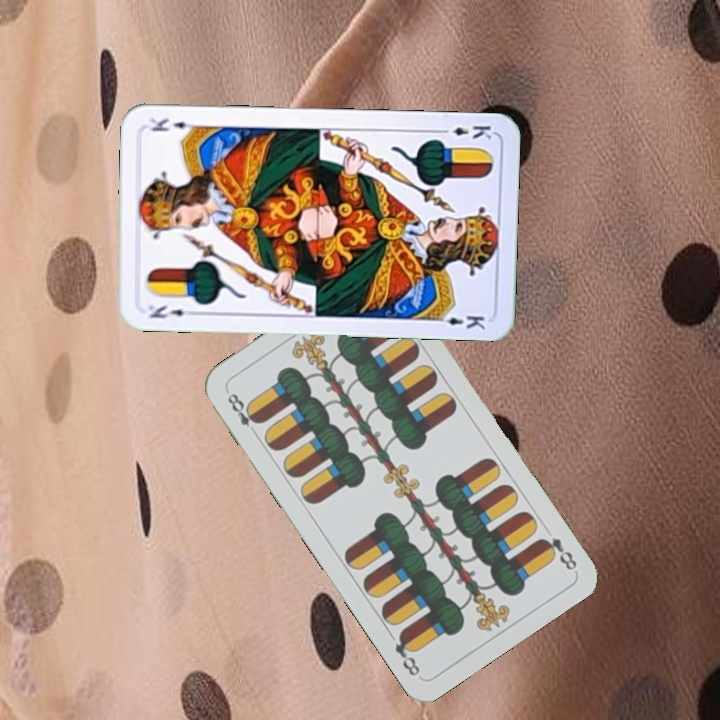E8: (223, 389, 264, 439), (535, 533, 580, 574)
EK: (435, 121, 494, 141), (144, 301, 199, 321)
